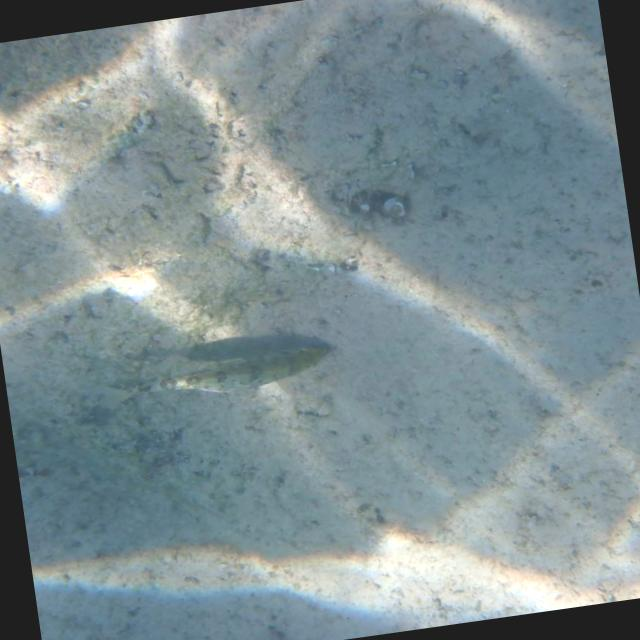Sokar Baligi: (74, 322, 353, 430)
